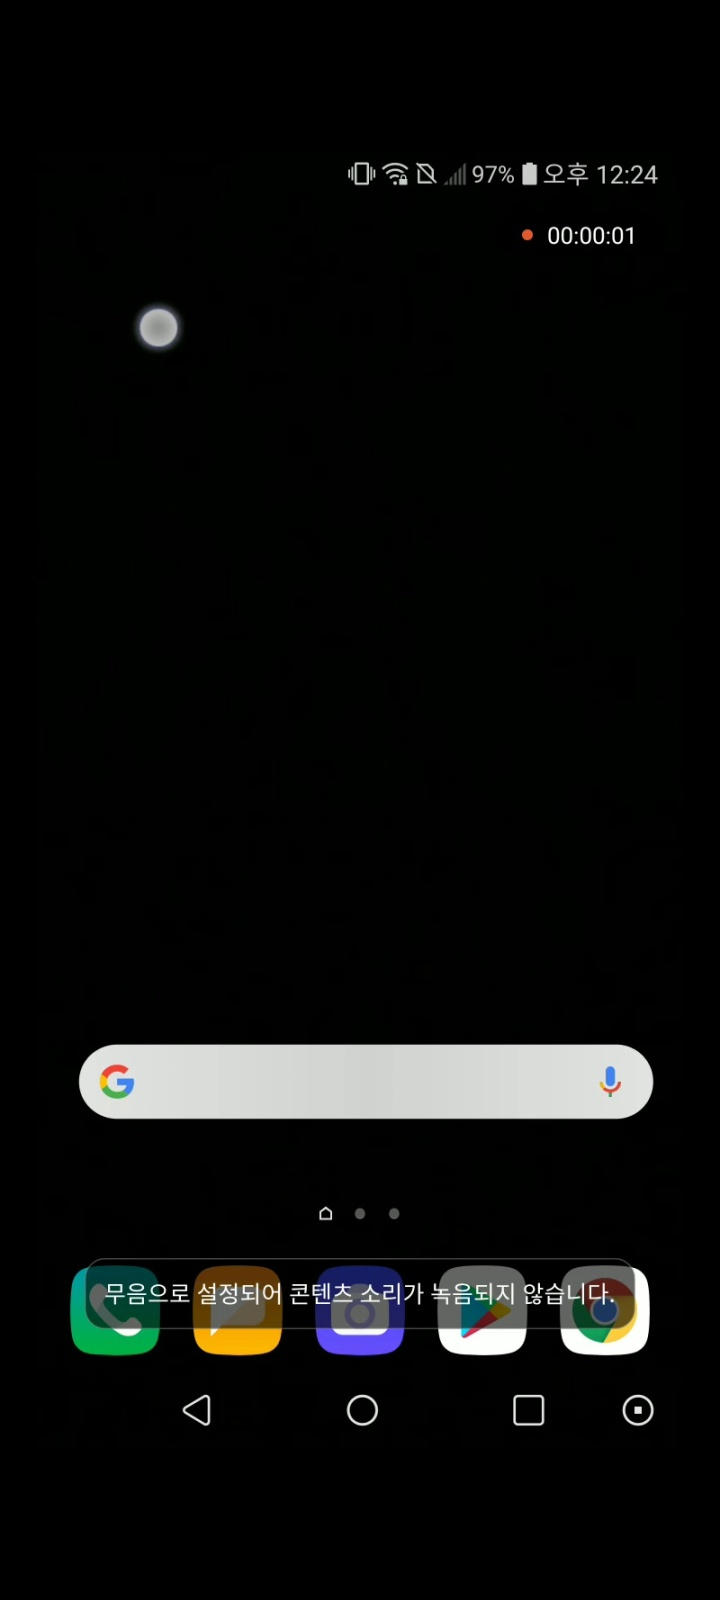Cursor: (136, 306, 181, 351)
